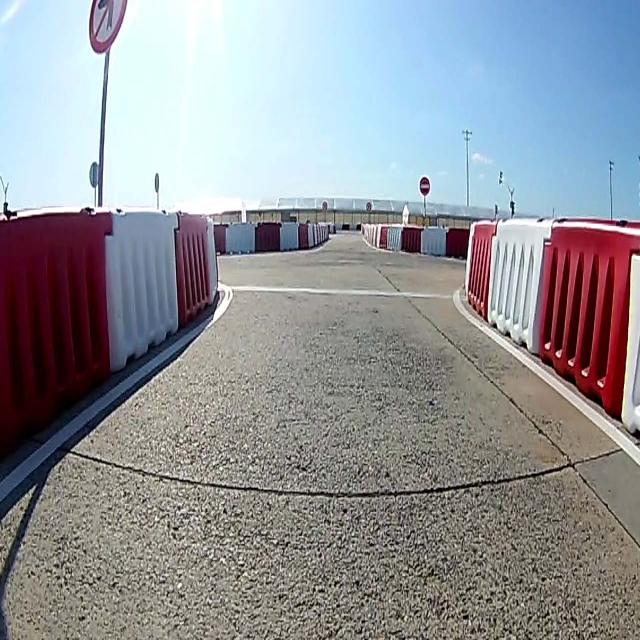girisyok: (418, 176, 432, 197)
soladonulmez: (88, 1, 128, 57)
